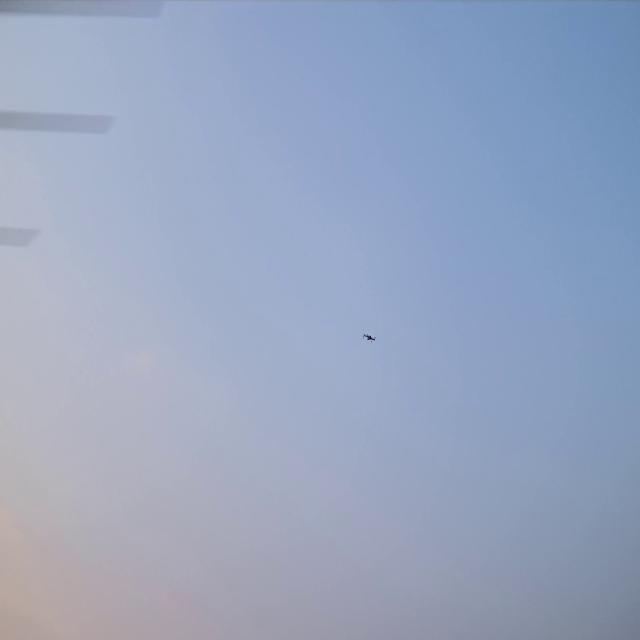UAV: (364, 334, 374, 341)
